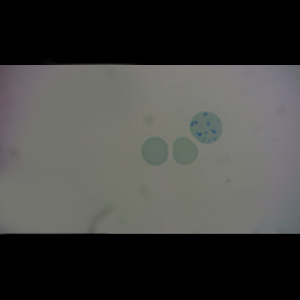aggregate reticulocyte: (189, 111, 223, 145)
erythrocyte: (171, 137, 199, 165), (141, 137, 169, 165)
